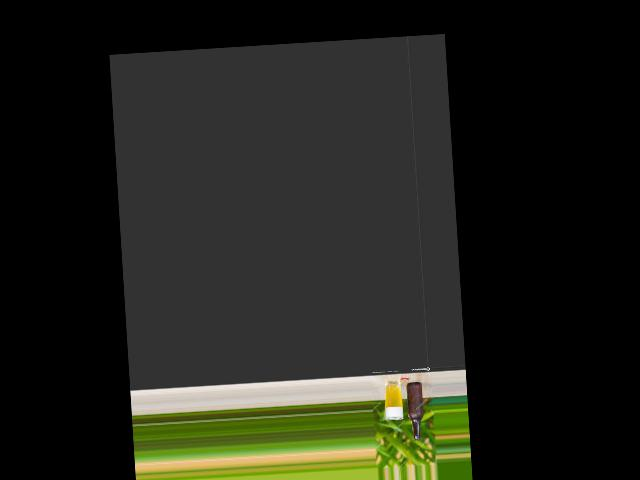beer: (406, 381, 424, 440)
